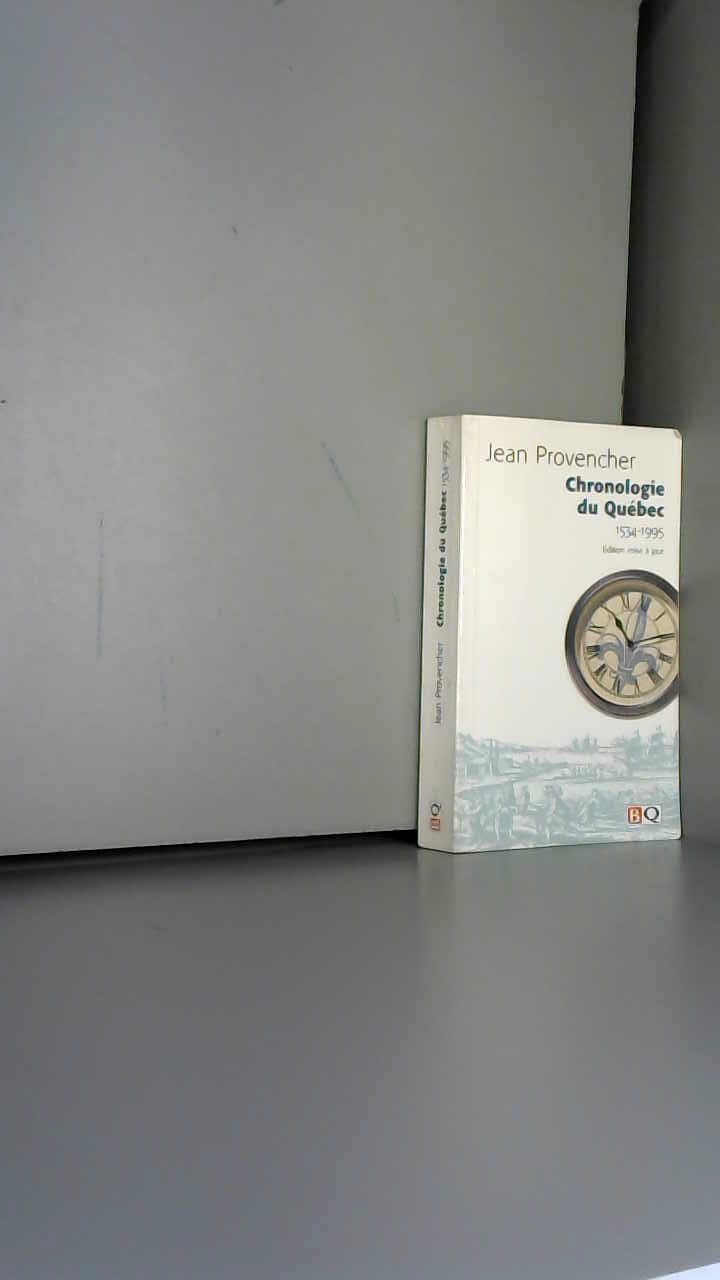book: (390, 380, 716, 886)
